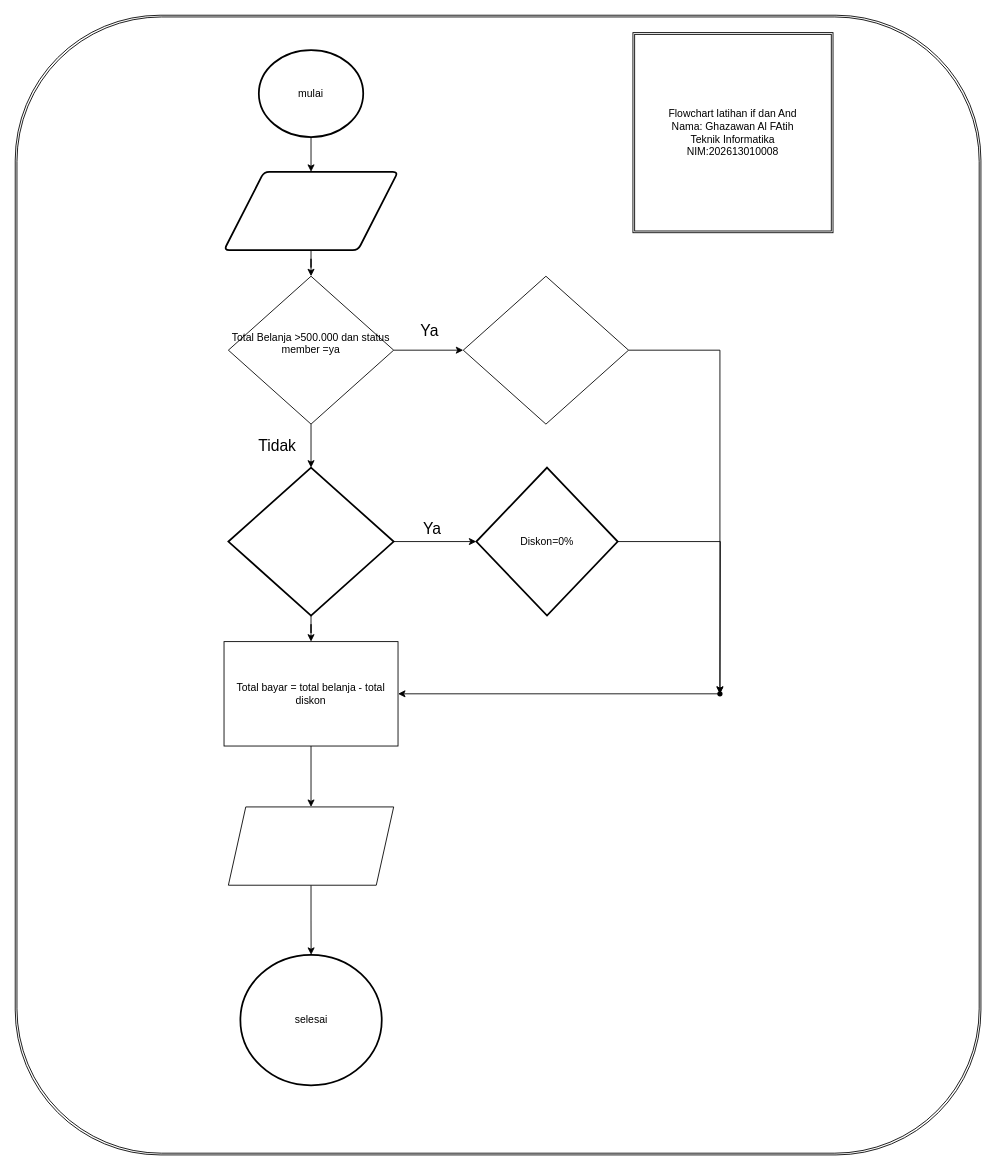
Some shapes in this 996 by 1170 pixel diagram are drawn without their labels. The shapes that lost their labels are listed below. From the top down, each one's box as (x1, y1, x2, y2) in pixels, then its label:
(223, 171, 398, 251): Input masukan Nilai
(462, 275, 629, 424): Diskon=10%
(227, 466, 394, 616): Total Belanja <500.000 dan status member =tidak
(228, 806, 394, 885): output diskon dan total bayar
